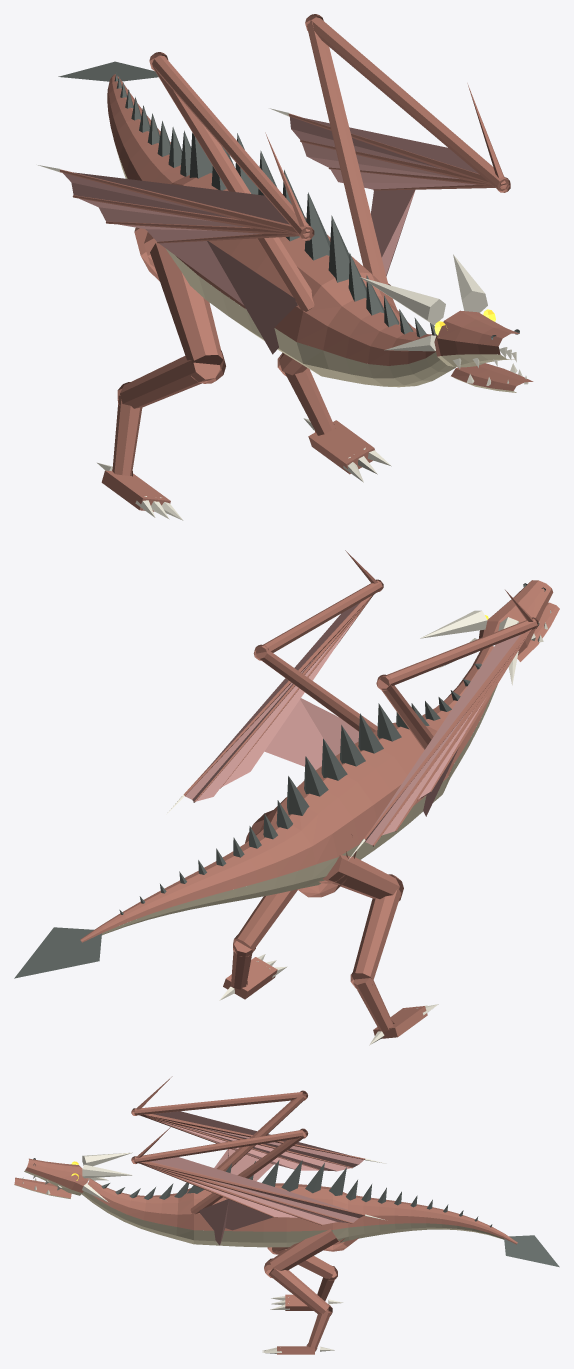
File: dragons-and-wyverns-wyvern-crouched-b6b0936d__36719.glb
The picture shows the model from 3 angles, top to bottom: view 1: azimuth 30°, elevation 25°; view 2: azimuth 150°, elevation 25°; view 3: azimuth 270°, elevation 25°; orthographic projection. The views are drawn at different scales.
Visible parts, largest first — view 1: wyvern-crouched; view 2: wyvern-crouched; view 3: wyvern-crouched.
Boxes of the visible parts, x1,y1,x2,y2 form: wyvern-crouched: (38,14,533,520); wyvern-crouched: (14,550,559,1045); wyvern-crouched: (14,1076,559,1354).
Bounding box in the file's own units: 1.77 × 3.1 × 6.57.
